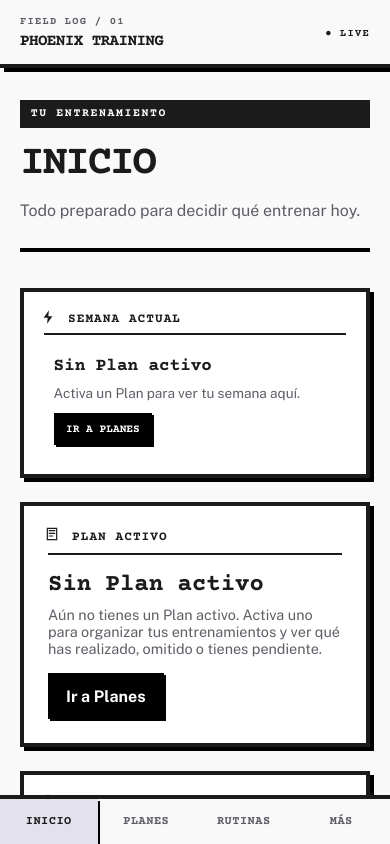
Test: application navigation › Más gives direct access to Ejercicios and Cuenta
Click the button "Más" at (341,822), box [292,799,389,843]
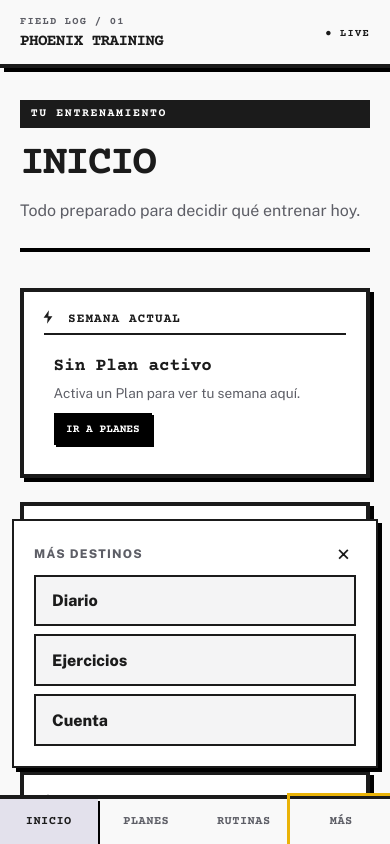
Check: the link "Ejercicios" is shown, box [34,634,356,686]
Check: the link "Cuenta" is shown, box [34,694,356,746]
